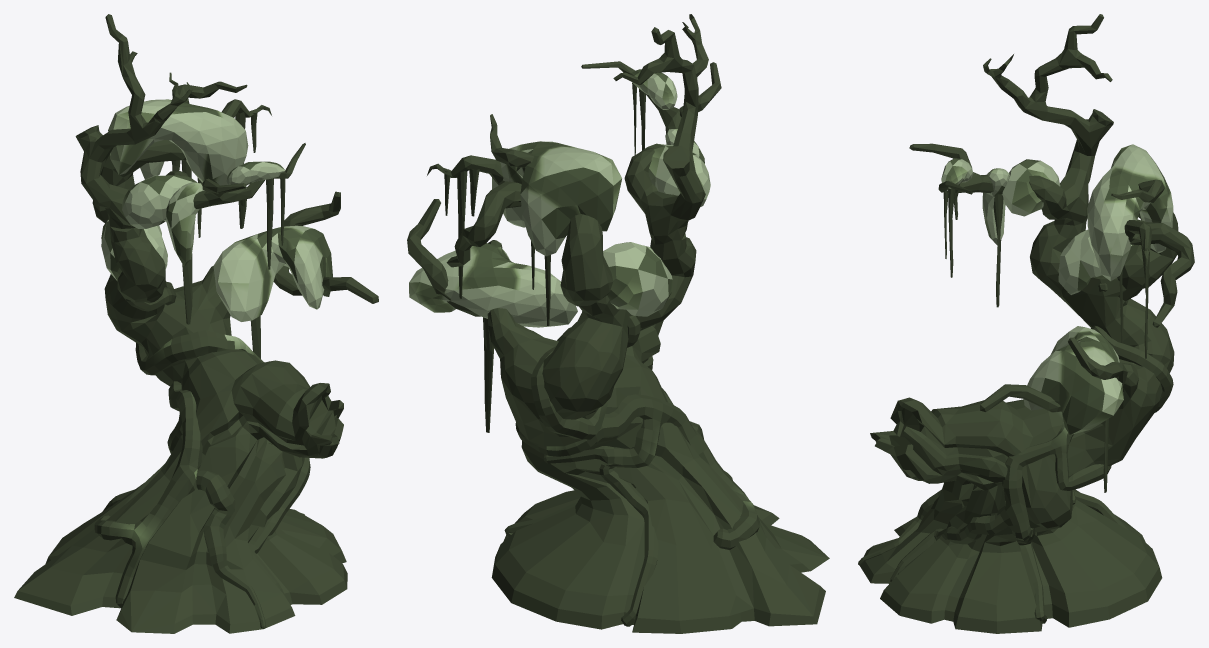
File: EA_Swamp_tree4.glb
3 views of the same model, side by side, from view 1: azimuth 30°, elevation 25°; view 2: azimuth 150°, elevation 25°; view 3: azimuth 270°, elevation 25° (orthographic). The views are drawn at different scales.
Parts seen in each view (by area): view 1: EA_Swamp_tree4; view 2: EA_Swamp_tree4; view 3: EA_Swamp_tree4.
Part boxes in pixels (left/top/right/bottom): EA_Swamp_tree4: left=14, top=14, right=378, bottom=633; EA_Swamp_tree4: left=407, top=14, right=829, bottom=633; EA_Swamp_tree4: left=858, top=14, right=1194, bottom=633.
Bounding box in the file's own units: 7.89 × 11.62 × 6.61.
Materials: 1 (1 with a texture image).
